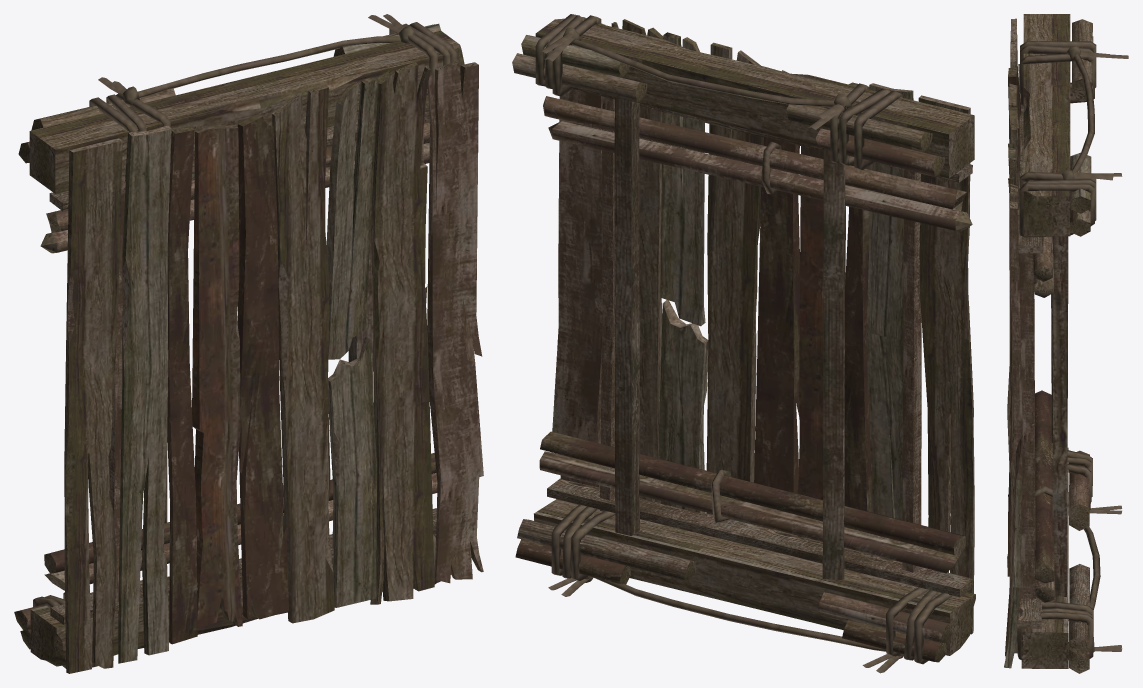
The model's file is GEN_PRO_Bridge_Large_03A_LOD0-transformed.glb.
3 views of the same model, side by side, from view 1: azimuth 30°, elevation 25°; view 2: azimuth 150°, elevation 25°; view 3: azimuth 270°, elevation 25° (orthographic). The views are drawn at different scales.
Parts seen in each view (by area): view 1: GEN_PRO_Bridge_Large_03A_LOD0; view 2: GEN_PRO_Bridge_Large_03A_LOD0; view 3: GEN_PRO_Bridge_Large_03A_LOD0.
Boxes of the visible parts, box(x1,y1,x2,y2) form: GEN_PRO_Bridge_Large_03A_LOD0: box(14, 14, 483, 673); GEN_PRO_Bridge_Large_03A_LOD0: box(512, 14, 975, 673); GEN_PRO_Bridge_Large_03A_LOD0: box(1004, 14, 1128, 673).
Size of the model in its own units: 0.0514 by 0.0627 by 0.0142.
2 materials, 2 textured.
